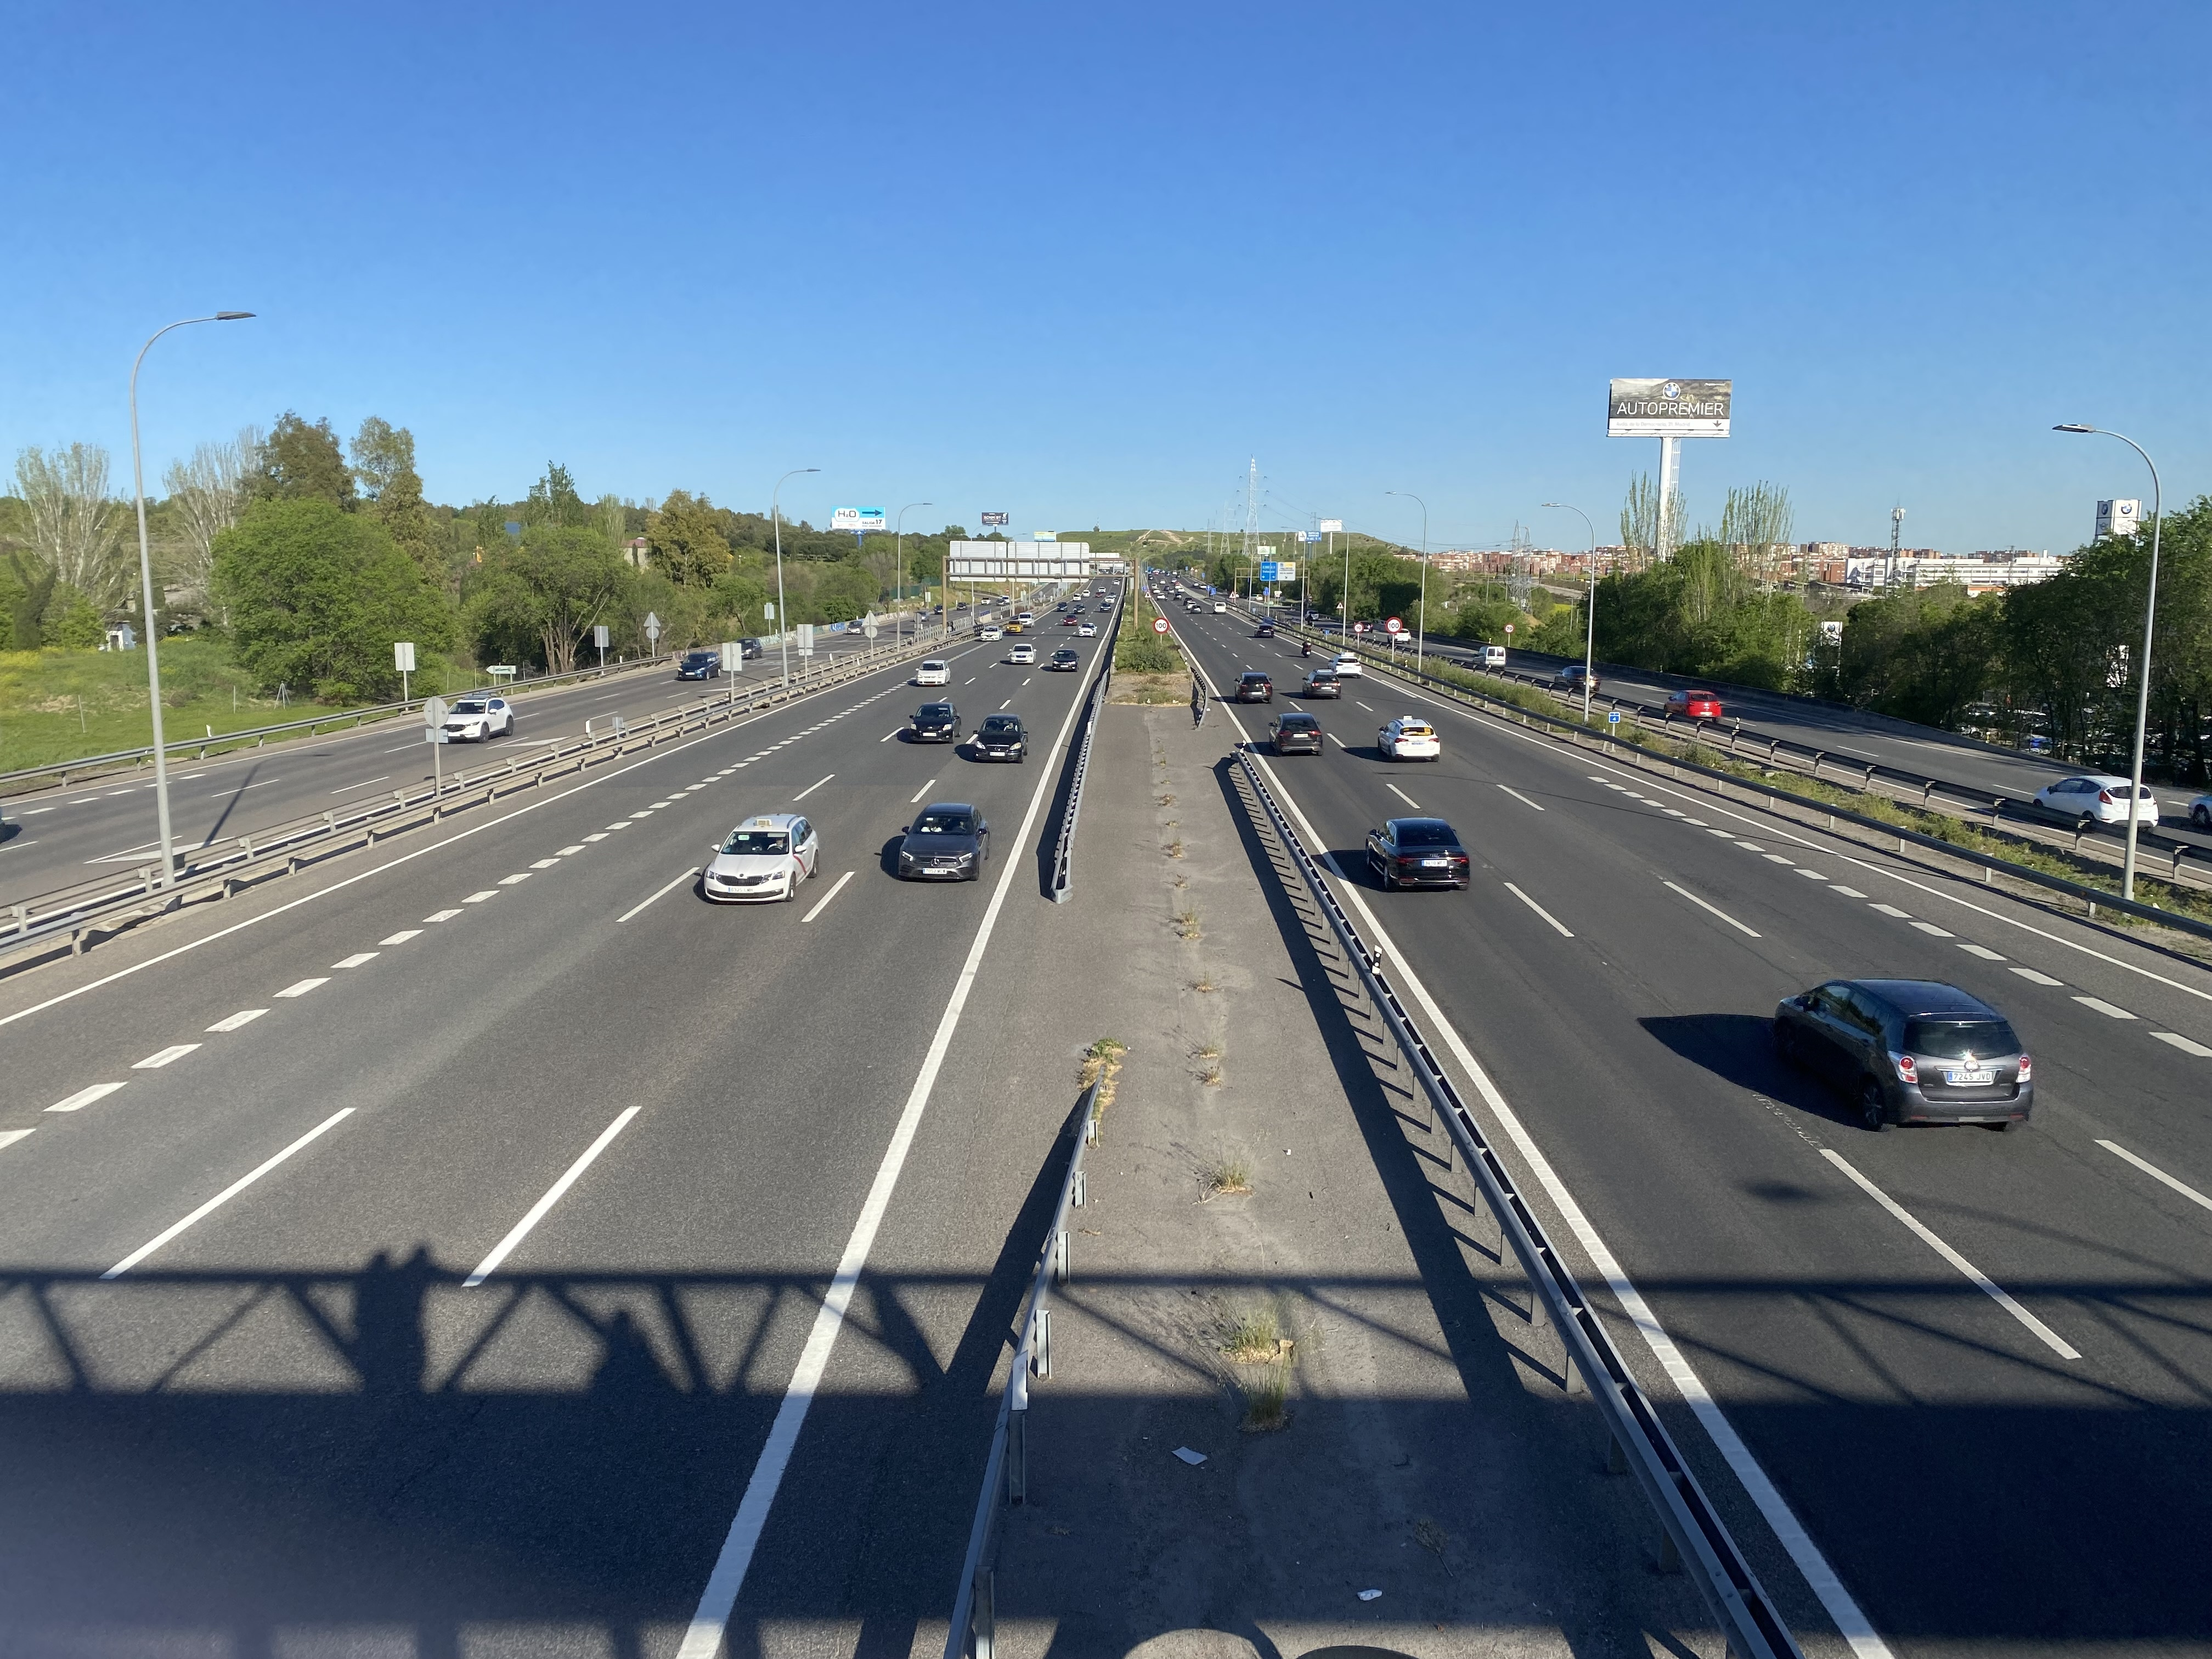cars: (1774, 979, 2033, 1130), (704, 813, 817, 901), (1366, 817, 1470, 889), (896, 803, 988, 880), (444, 692, 514, 741), (960, 713, 1027, 762), (1378, 716, 1440, 759), (1269, 710, 1323, 754), (902, 700, 958, 742), (1664, 689, 1722, 721), (677, 650, 721, 680), (1234, 670, 1273, 703), (1302, 669, 1341, 699), (912, 658, 950, 686), (2187, 792, 2211, 832), (1044, 647, 1079, 672), (1332, 651, 1362, 678), (1002, 641, 1036, 665), (1006, 612, 1035, 634), (1480, 645, 1507, 669), (740, 637, 762, 661), (1254, 618, 1274, 637), (977, 625, 1002, 641), (1390, 629, 1411, 647), (1076, 622, 1097, 637), (1062, 613, 1080, 628), (847, 619, 863, 635), (1099, 597, 1115, 612), (1187, 600, 1204, 614), (1213, 602, 1227, 613)
